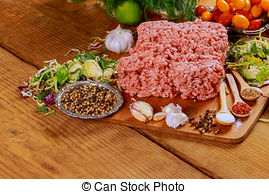ground_beef: (124, 19, 225, 98)
